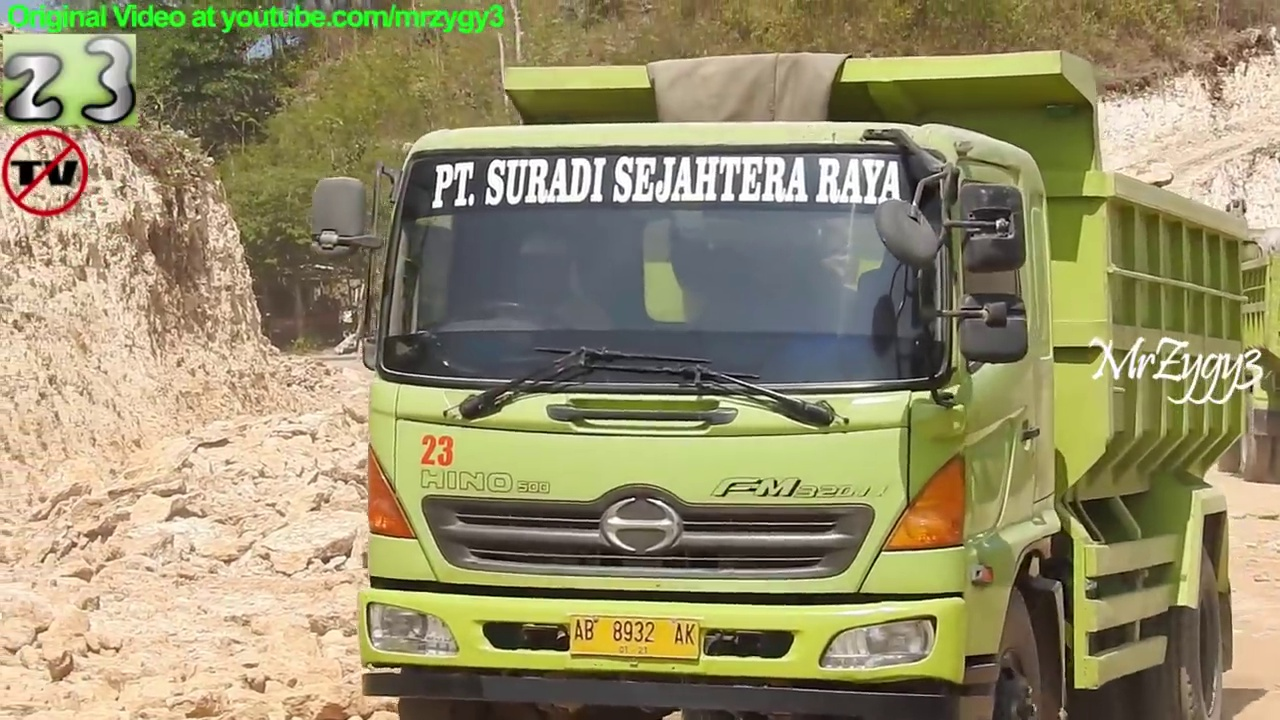truck: (305, 47, 1254, 720), (1137, 228, 1280, 486)
